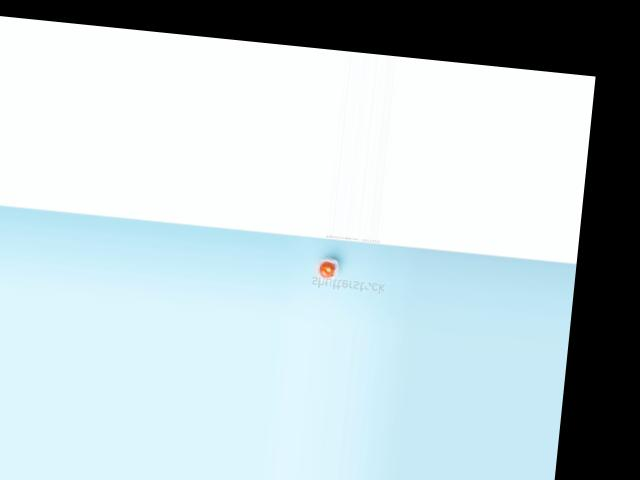tomato: (319, 261, 336, 278)
